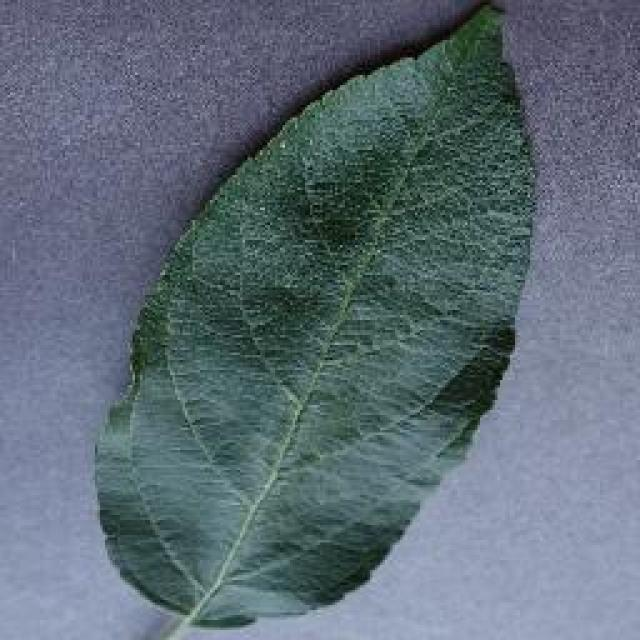apple healthy: (90, 3, 538, 635)
